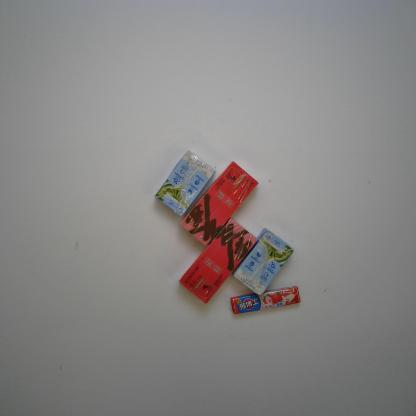Candy: (230, 282, 301, 318)
Instant Drink: (175, 157, 261, 251), (176, 215, 260, 305)
Milk: (148, 148, 216, 219), (229, 225, 294, 298)
